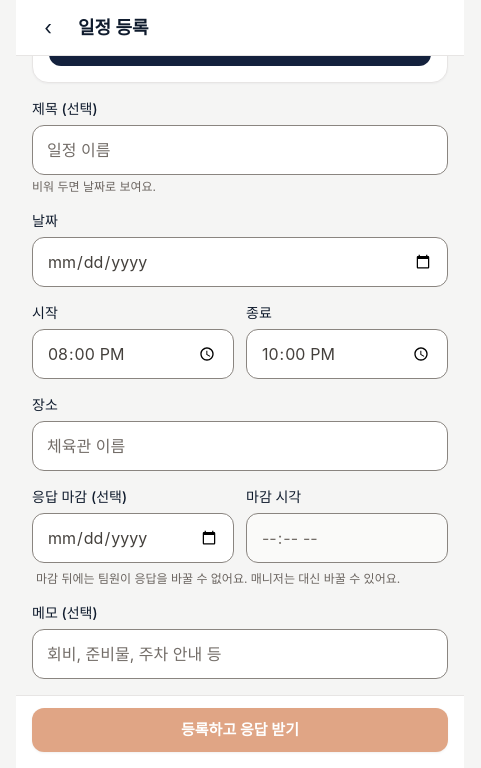
EventCreatePage › 마감 날짜를 고르면 마감 시각이 밤 10시로 채워진다
(page scrolled)
Check: the button "이 내용으로 채우기" is shown, box [49, 22, 431, 66]
Check: the time field labelled "마감 시각" is disabled, box [246, 513, 448, 563]
In the date field labelled "응답 마감 (선택)": coordinates (133, 538) [32, 513, 234, 563], type "2026-09-19"
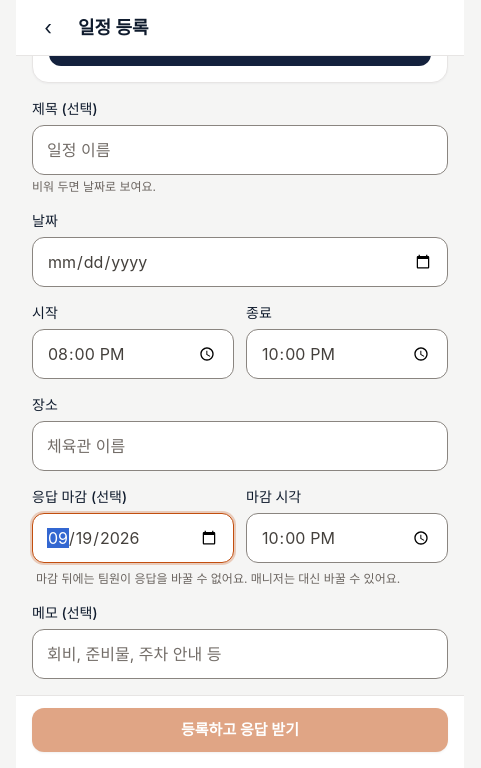
Check: the time field labelled "마감 시각" holds "22:00", box [246, 513, 448, 563]
Check: the time field labelled "마감 시각" is enabled, box [246, 513, 448, 563]
